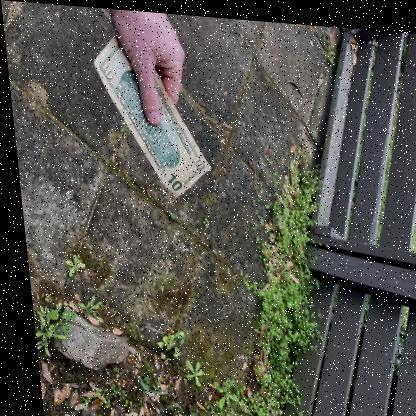ten-back: (89, 20, 208, 199)
